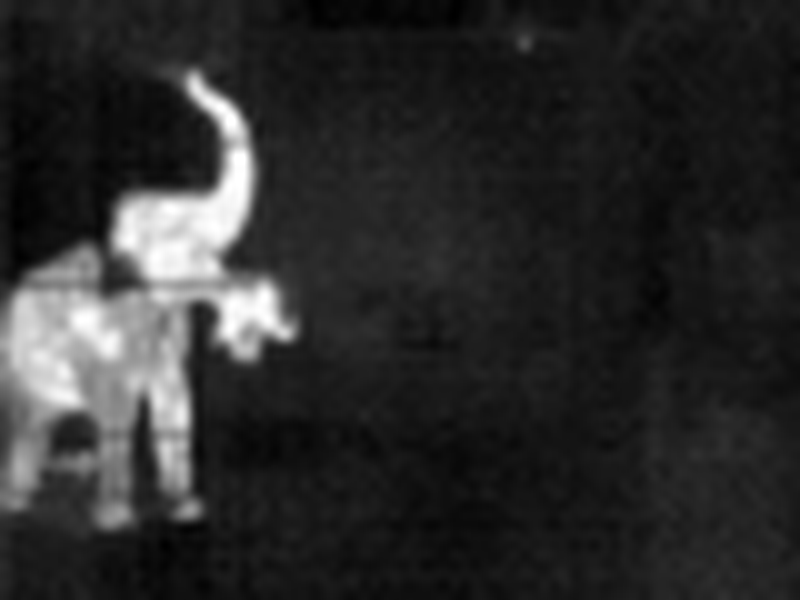elephant: (13, 69, 278, 523)
